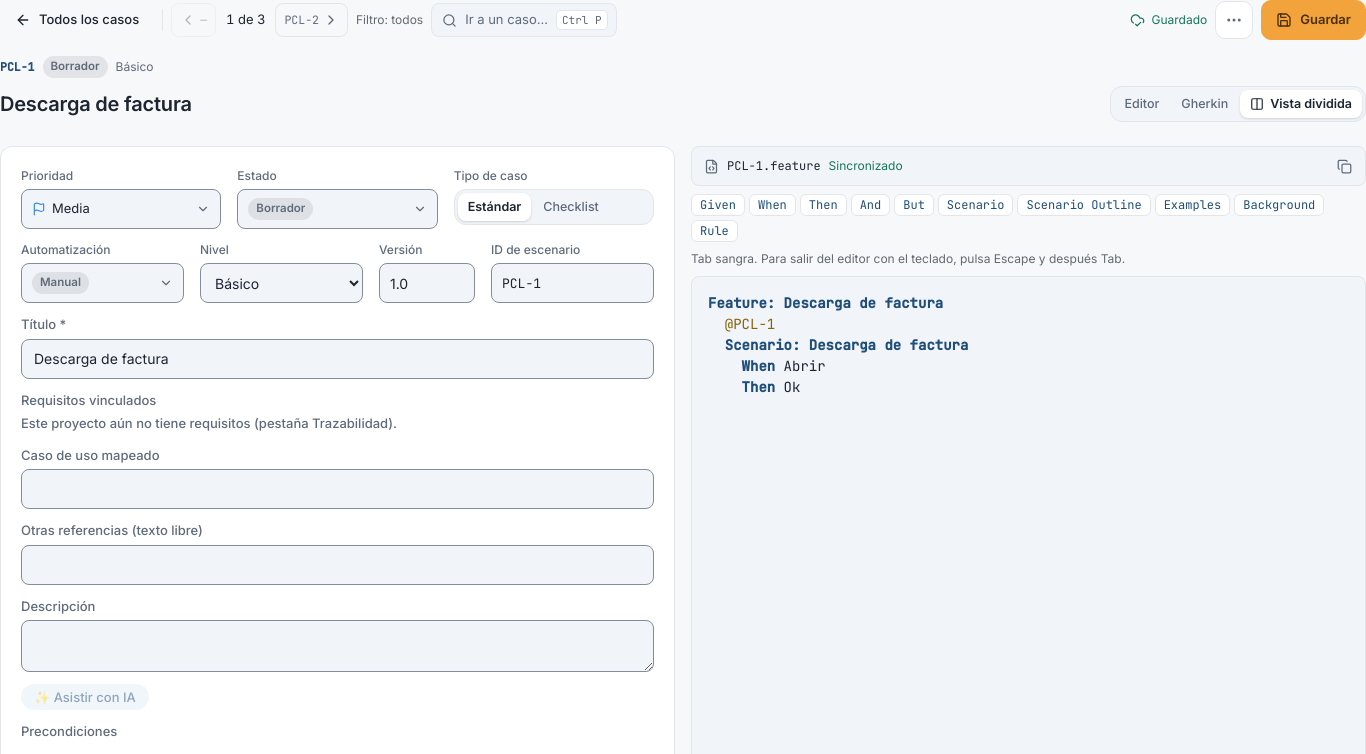
Test: Casos · editor navigation (RED-V3) › Ctrl P opens «Ir a un caso» and Enter opens the match
This screenshot has width=1366, height=754.
Expected: the heading "Descarga de factura" is shown, [0,92,192,116]
Press p
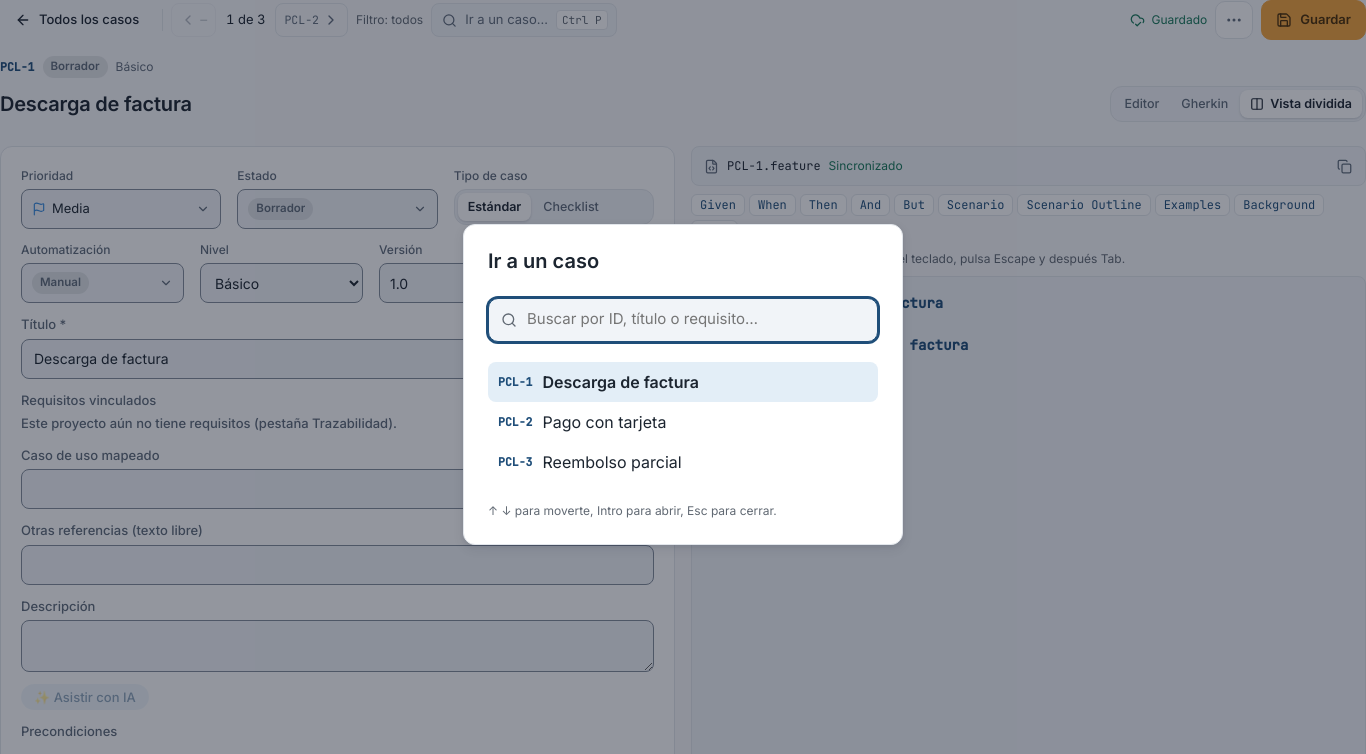
Type "reembolso" into the dropdown named "Ir a un caso" at (695, 320), box [525,307,865,332]
Then press Enter
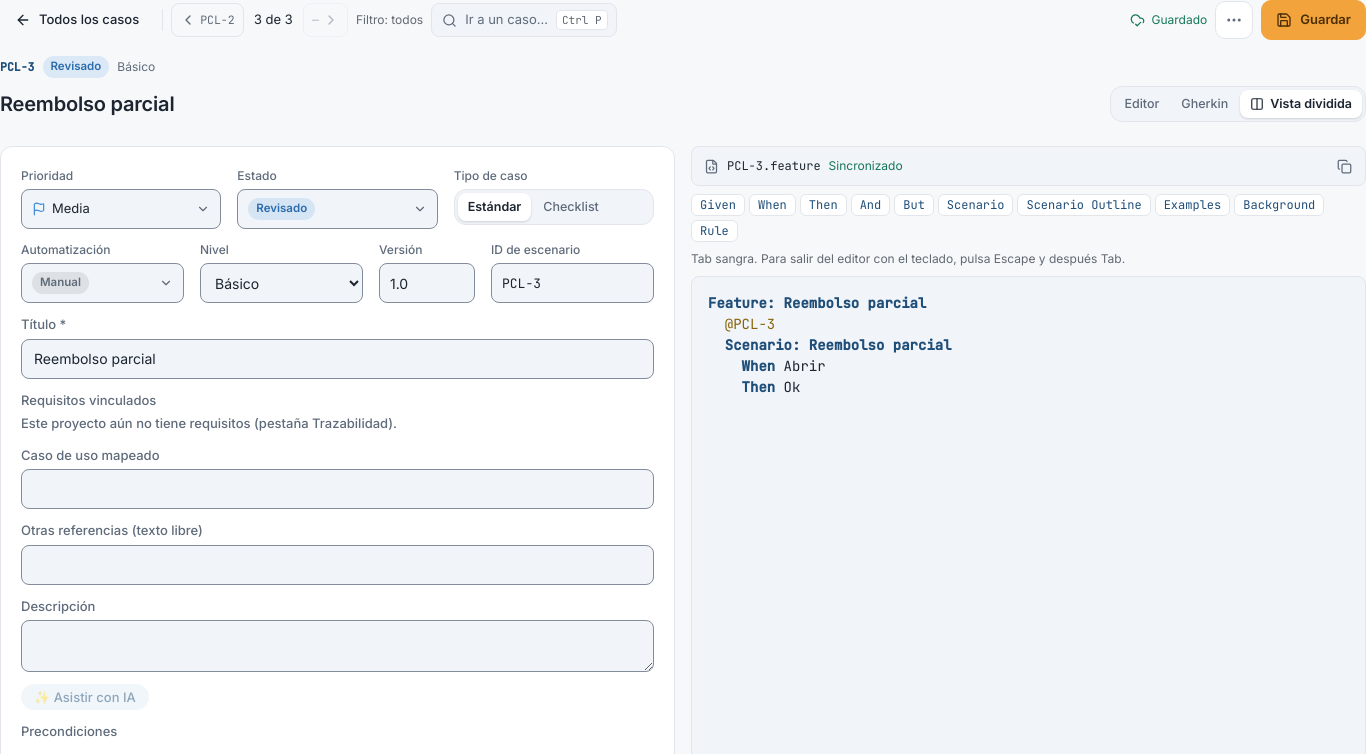
Result: the heading "Reembolso parcial" is shown at [0,92,174,116]
